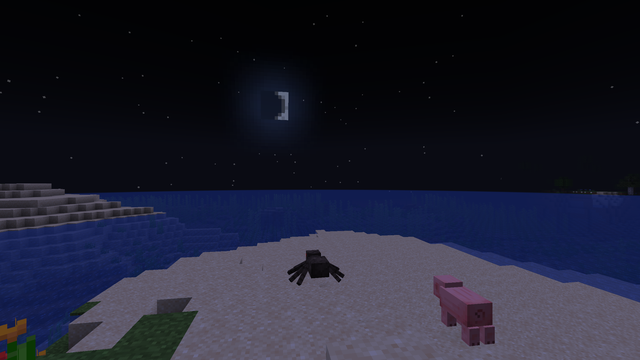araignees: (295, 247, 337, 285)
cochons: (435, 284, 495, 343)
